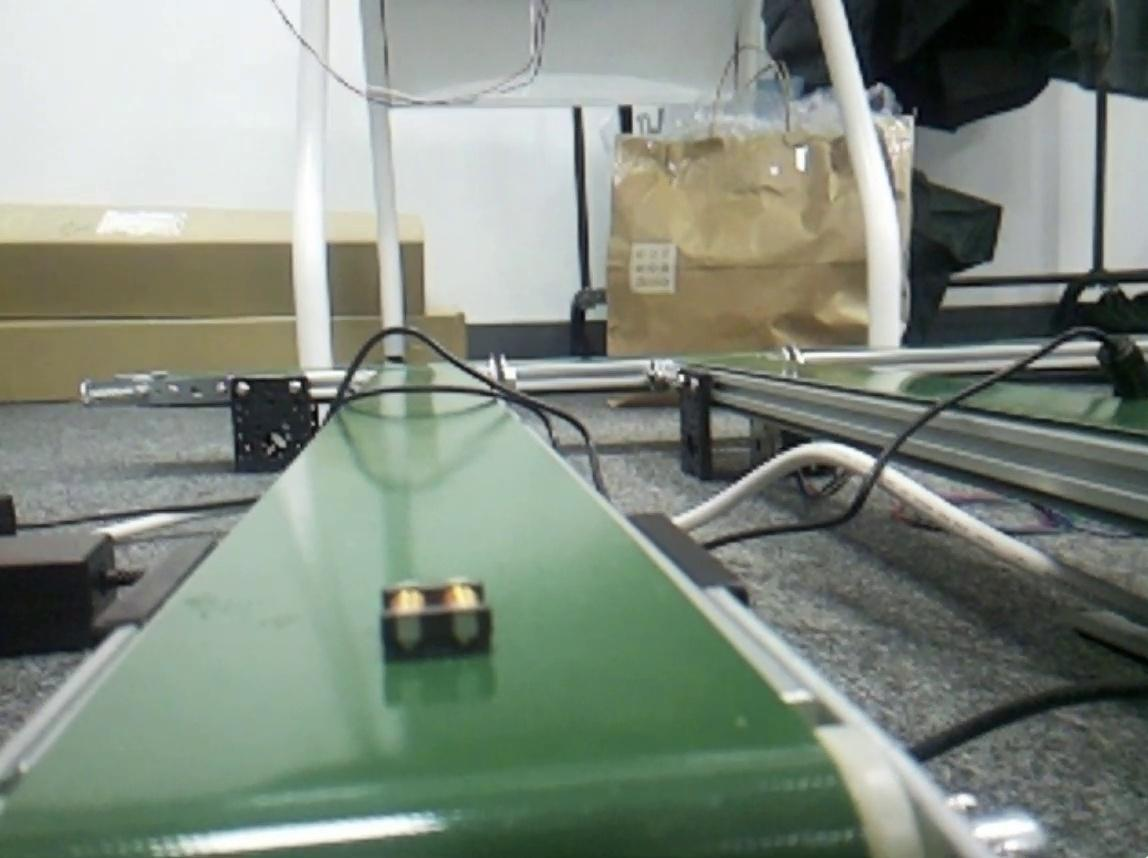inductor: (383, 585, 488, 651)
